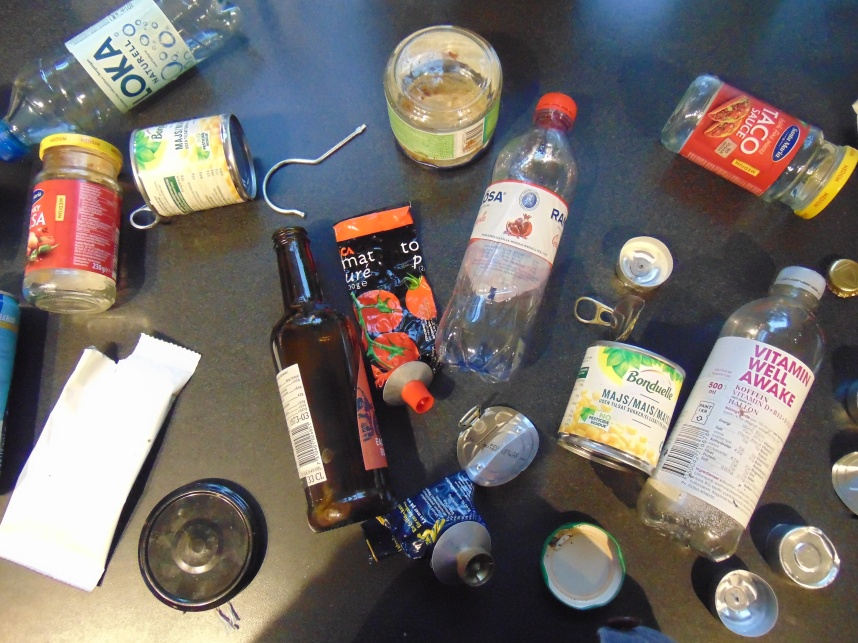glass_bottle: (268, 226, 394, 532), (661, 74, 855, 218), (21, 133, 121, 315), (385, 25, 506, 172)
metal: (333, 203, 437, 401), (138, 480, 259, 613), (373, 470, 495, 581), (263, 123, 371, 215), (540, 520, 627, 610), (454, 398, 541, 486), (767, 520, 843, 594), (710, 568, 782, 639), (570, 286, 642, 339), (616, 237, 674, 293), (831, 446, 858, 519), (828, 257, 858, 299), (123, 204, 164, 232)
metal_can: (557, 338, 687, 477), (129, 111, 258, 219), (1, 288, 20, 433)
plastic_bottle: (1, 1, 244, 165)
